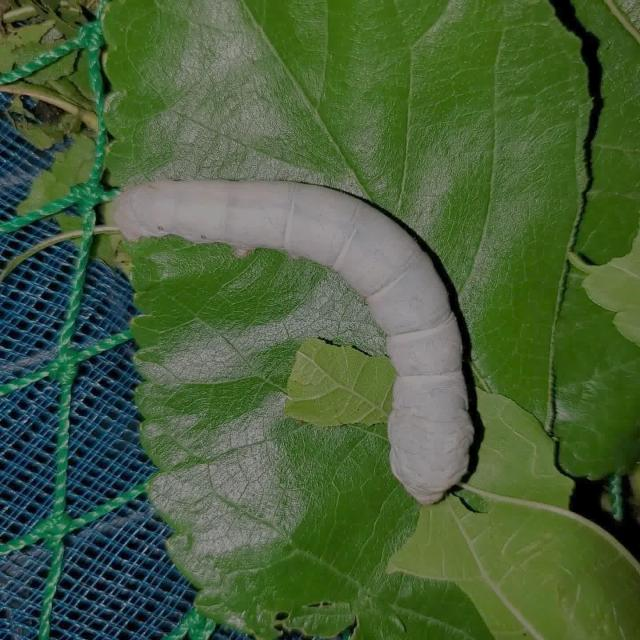Healthy: (104, 165, 493, 508)
